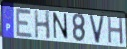8: (71, 12, 87, 42)
E: (15, 7, 34, 39)
H: (33, 9, 52, 41), (107, 15, 124, 46)
N: (52, 11, 70, 41)
V: (88, 14, 105, 45)
